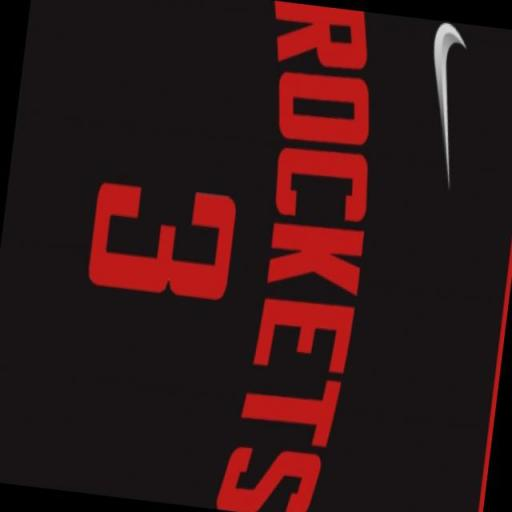Nike: (406, 19, 478, 205)
